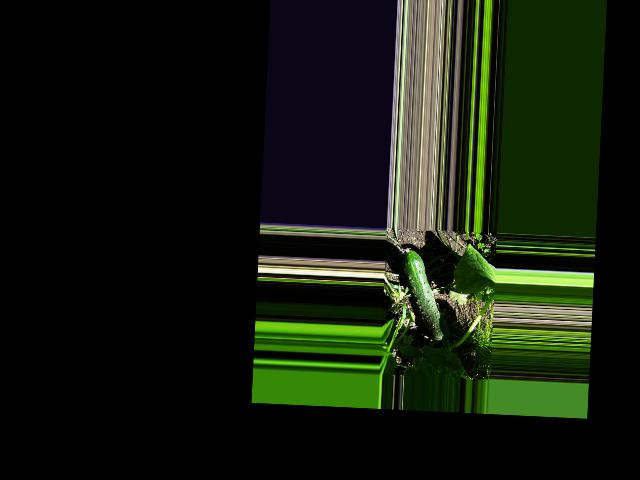cucumber: (398, 248, 453, 343)
